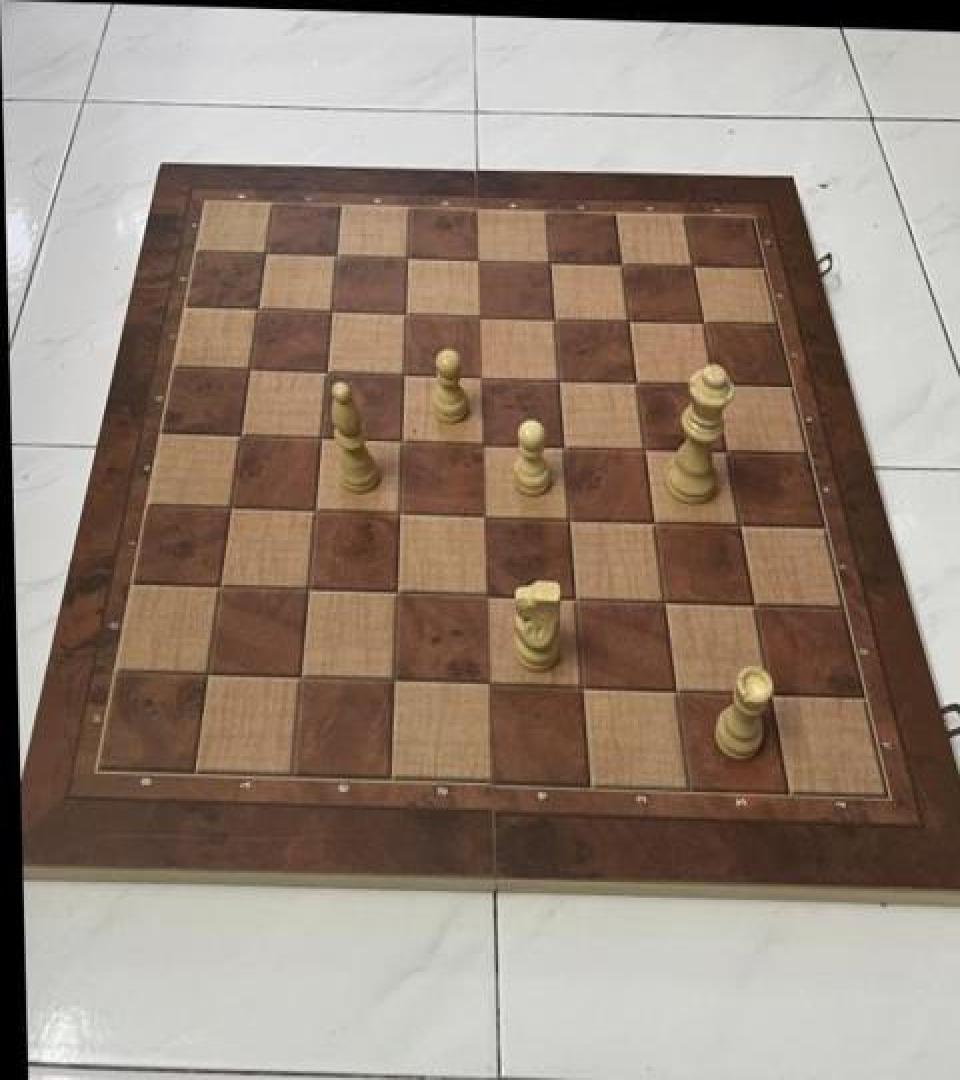xcorner: (292, 571, 324, 608), (648, 580, 680, 617), (378, 661, 410, 698), (250, 236, 282, 272), (320, 238, 352, 274), (391, 238, 423, 274), (462, 241, 494, 277), (533, 242, 565, 278), (604, 243, 636, 279), (676, 244, 708, 280), (242, 292, 274, 328), (315, 294, 347, 330), (389, 295, 421, 331), (463, 296, 495, 332), (537, 298, 569, 334), (611, 299, 643, 335), (686, 302, 718, 338), (234, 352, 266, 388), (310, 353, 342, 389), (387, 356, 419, 392), (464, 356, 496, 392), (542, 359, 574, 395), (619, 361, 651, 397), (697, 362, 729, 398), (225, 418, 257, 454), (305, 420, 337, 456), (385, 422, 417, 458), (466, 423, 498, 459), (547, 425, 579, 461), (628, 428, 660, 464), (709, 430, 741, 466), (215, 490, 247, 526), (299, 492, 331, 528), (383, 494, 415, 530), (467, 496, 499, 532), (552, 498, 584, 534), (637, 500, 669, 536), (723, 503, 755, 539), (204, 569, 236, 605), (381, 574, 413, 610), (469, 576, 501, 612), (558, 578, 590, 614), (737, 584, 769, 620), (192, 656, 224, 692), (285, 659, 317, 695), (471, 665, 503, 701), (565, 667, 597, 703), (659, 670, 691, 706), (754, 673, 786, 709)
